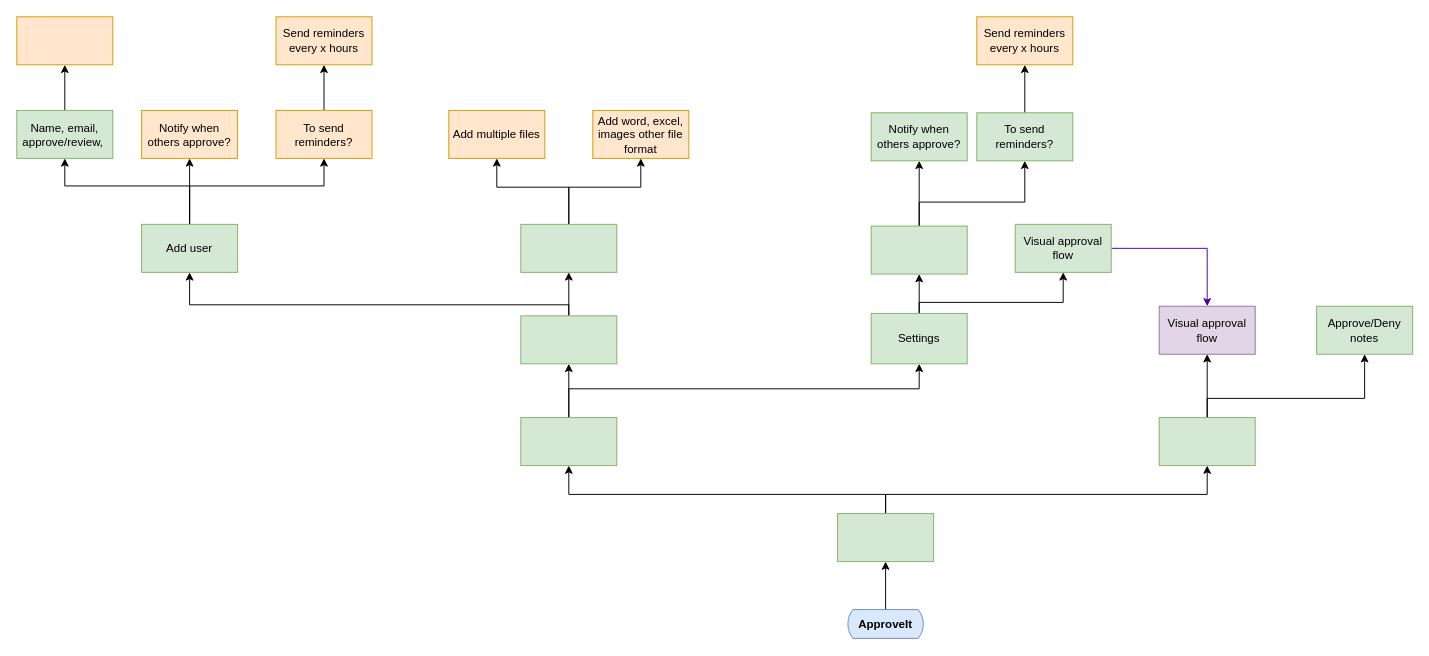
Image size: 1429x656. Some labels were removed from this diagram. Each missing label, with the centre of its shape:
Add new approval flow: (x=568, y=339)
Add pdf file: (x=568, y=247)
Admin UI: (x=568, y=441)
Approver /Reviewer UI: (x=1206, y=441)
Does reviewer pause the flow?: (x=64, y=40)
General notification settings: (x=918, y=249)
Login/Signup: (x=885, y=537)
